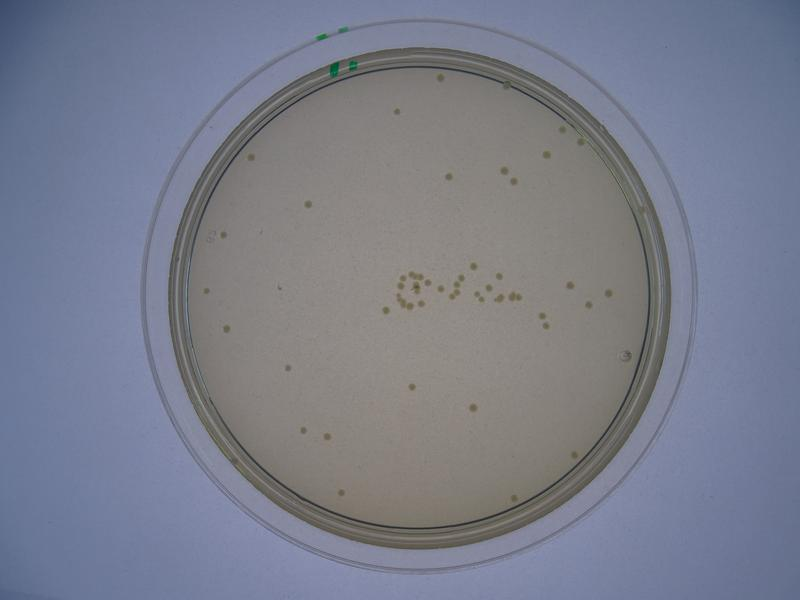colony: (465, 400, 481, 416), (391, 105, 407, 120), (378, 302, 393, 317), (563, 276, 575, 293), (219, 323, 233, 337), (443, 169, 455, 184), (301, 197, 313, 211), (243, 151, 256, 163), (321, 430, 334, 442), (583, 298, 595, 311), (495, 268, 506, 282), (539, 149, 553, 160), (407, 380, 418, 393), (201, 284, 212, 297), (336, 487, 348, 498), (282, 361, 293, 372), (297, 426, 308, 436), (220, 229, 227, 241), (604, 288, 613, 297)
